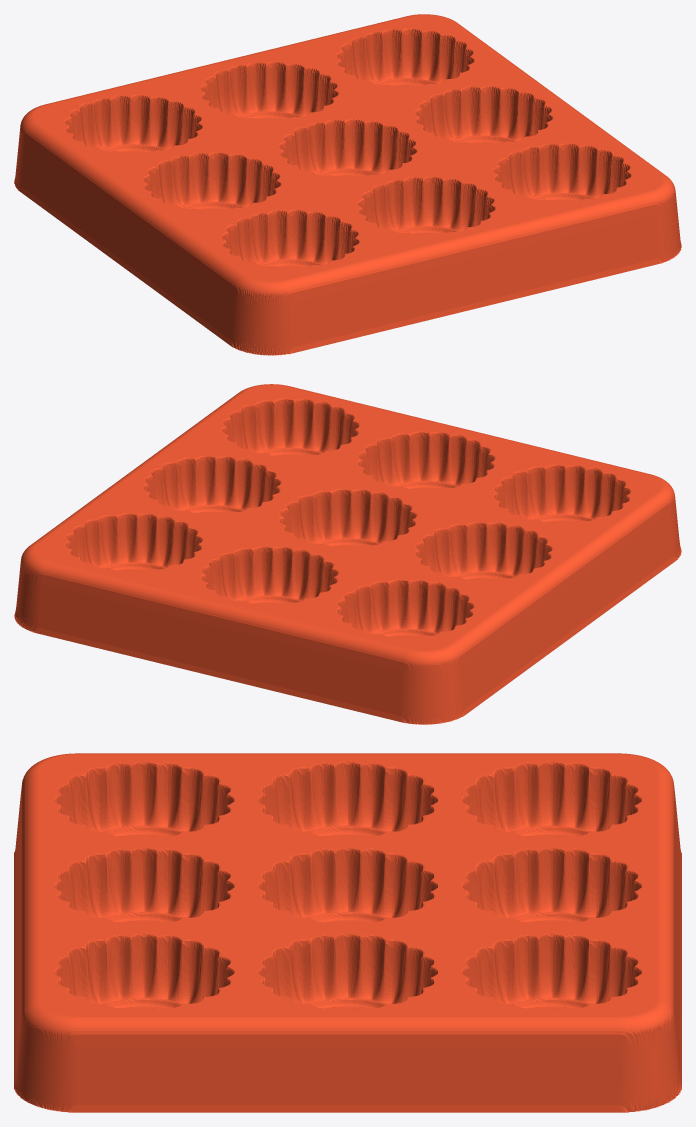
Rendered from mold.glb.
3 views of the same model, one above another, from view 1: azimuth 30°, elevation 25°; view 2: azimuth 150°, elevation 25°; view 3: azimuth 270°, elevation 25° (orthographic). The views are drawn at different scales.
Visible parts, largest first — view 1: geometry_0; view 2: geometry_0; view 3: geometry_0.
Boxes of the visible parts, x1,y1,x2,y2 form: geometry_0: (14, 14, 681, 355); geometry_0: (14, 384, 681, 724); geometry_0: (14, 753, 681, 1112).
Size of the model in its own units: 0.0964 by 0.0136 by 0.0964.
